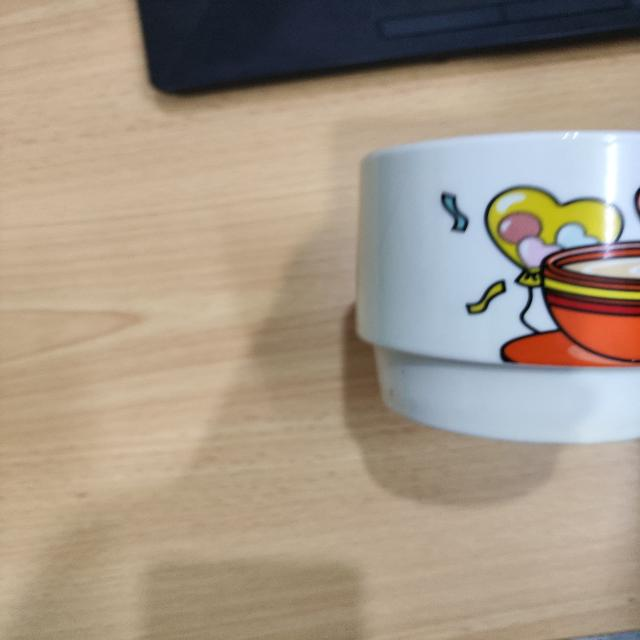cup: (352, 105, 640, 454)
